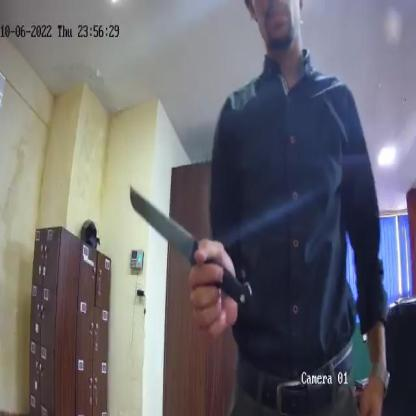Knife: (120, 175, 250, 338)
